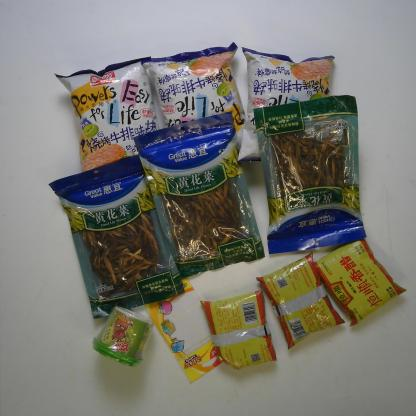Dried Food: (47, 153, 186, 320), (133, 110, 265, 278), (253, 94, 366, 255)
Instant Drink: (91, 306, 154, 369)
Puffed Food: (140, 40, 246, 161), (53, 55, 161, 172), (237, 46, 334, 163)
Seasoner: (255, 251, 346, 350), (313, 237, 407, 328), (199, 288, 278, 369)
Stationery: (144, 276, 223, 384)
